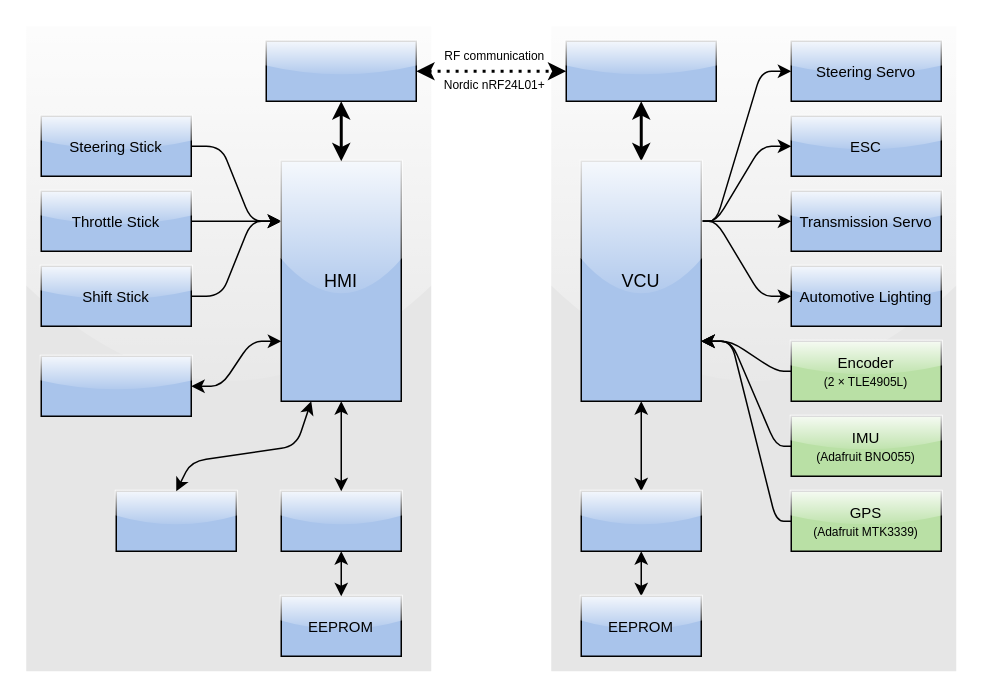
Some shapes in this 981 by 696 pixel diagram are drawn without their labels. Each missing label, with the box of its shape:
CarConfiguration: (580, 490, 701, 551)
CarState (digital twin): (115, 490, 236, 551)
HmiCommunicator: (265, 40, 416, 101)
HmiConfiguration: (280, 490, 401, 551)
Touch Display (Nextion NX4827K043): (40, 355, 191, 416)
VcuCommunicator: (565, 40, 716, 101)
